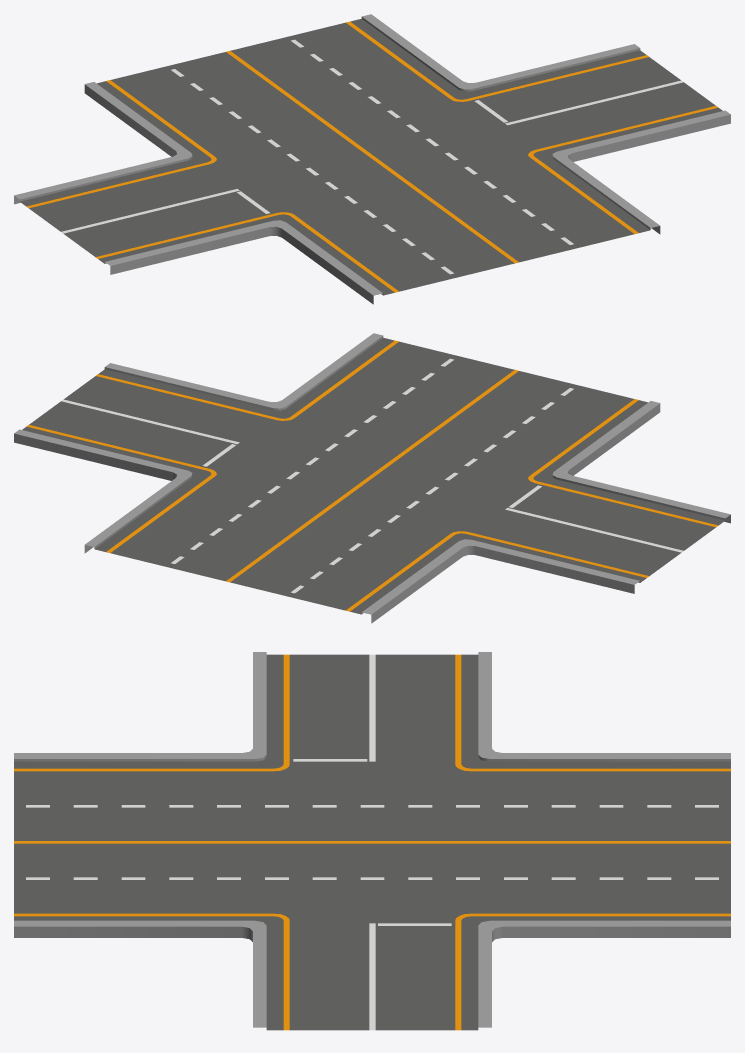
File: Road_B_2L_2_5.glb
3 renders of one model, top to bottom at view 1: azimuth 30°, elevation 25°; view 2: azimuth 150°, elevation 25°; view 3: azimuth 270°, elevation 25°, orthographic. The views are drawn at different scales.
Parts seen in each view (by area): view 1: Road_B_2L_2_5; view 2: Road_B_2L_2_5; view 3: Road_B_2L_2_5.
Part boxes in pixels (box(x1,y1,x2,y2)): Road_B_2L_2_5: box(14, 14, 730, 304); Road_B_2L_2_5: box(14, 333, 730, 623); Road_B_2L_2_5: box(14, 652, 730, 1030).
Bounding box in the file's own units: 29.75 × 0.4148 × 24.
Materials: 1 (1 with a texture image).
